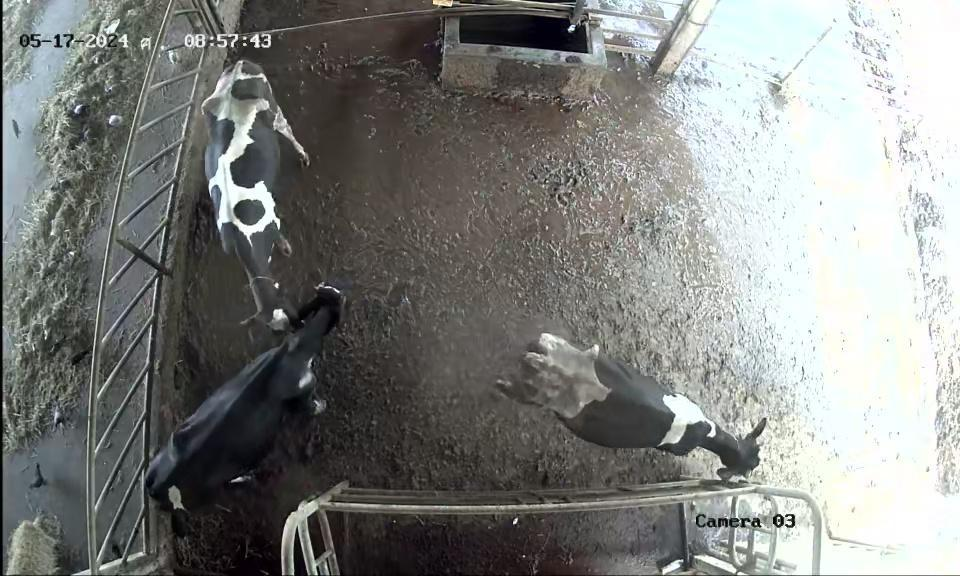stand: (135, 274, 372, 522), (493, 305, 767, 490), (192, 53, 319, 333)
